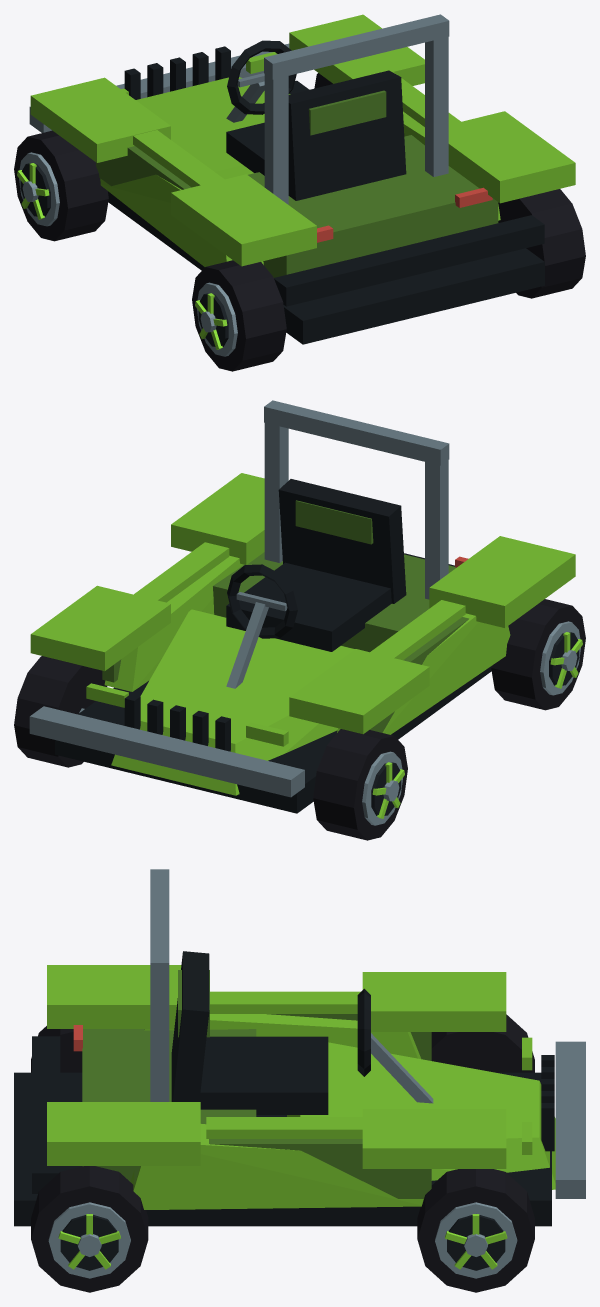
File: kart.glb
3 views of the same model, one above another, from view 1: azimuth 30°, elevation 25°; view 2: azimuth 150°, elevation 25°; view 3: azimuth 270°, elevation 25° (orthographic). The views are drawn at different scales.
Visible parts, largest first — view 1: chassis, wheel-rear-left, wheel-front-left, wheel-rear-right; view 2: chassis, wheel-front-left, wheel-rear-left, wheel-front-right; view 3: chassis, wheel-rear-right, wheel-front-right, wheel-front-left, wheel-rear-left.
Boxes of the visible parts, bbox=[...] form: chassis: bbox=[29, 14, 575, 344]; wheel-rear-left: bbox=[192, 260, 286, 371]; wheel-front-left: bbox=[14, 130, 108, 241]; wheel-rear-right: bbox=[498, 189, 585, 298]; chassis: bbox=[29, 400, 575, 813]; wheel-front-left: bbox=[313, 729, 407, 840]; wheel-rear-left: bbox=[491, 599, 585, 710]; wheel-front-right: bbox=[14, 656, 107, 767]; chassis: bbox=[14, 869, 585, 1226]; wheel-rear-right: bbox=[31, 1166, 148, 1292]; wheel-front-right: bbox=[417, 1169, 534, 1292]; wheel-front-left: bbox=[431, 1014, 534, 1072]; wheel-rear-left: bbox=[31, 1026, 82, 1072].
Size of the model in its own units: 2.42 by 1.67 by 3.02.
